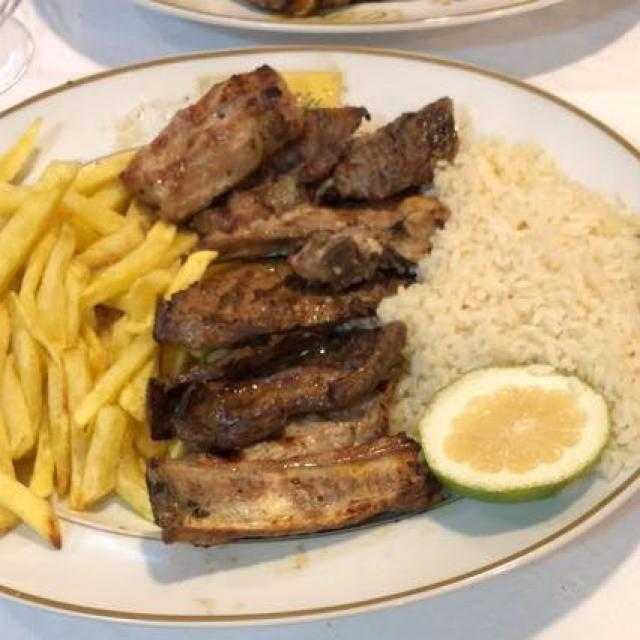beef: (140, 67, 468, 536)
chips-french-fries: (4, 168, 196, 526)
lemon: (410, 376, 615, 493)
rice: (401, 118, 633, 458)
